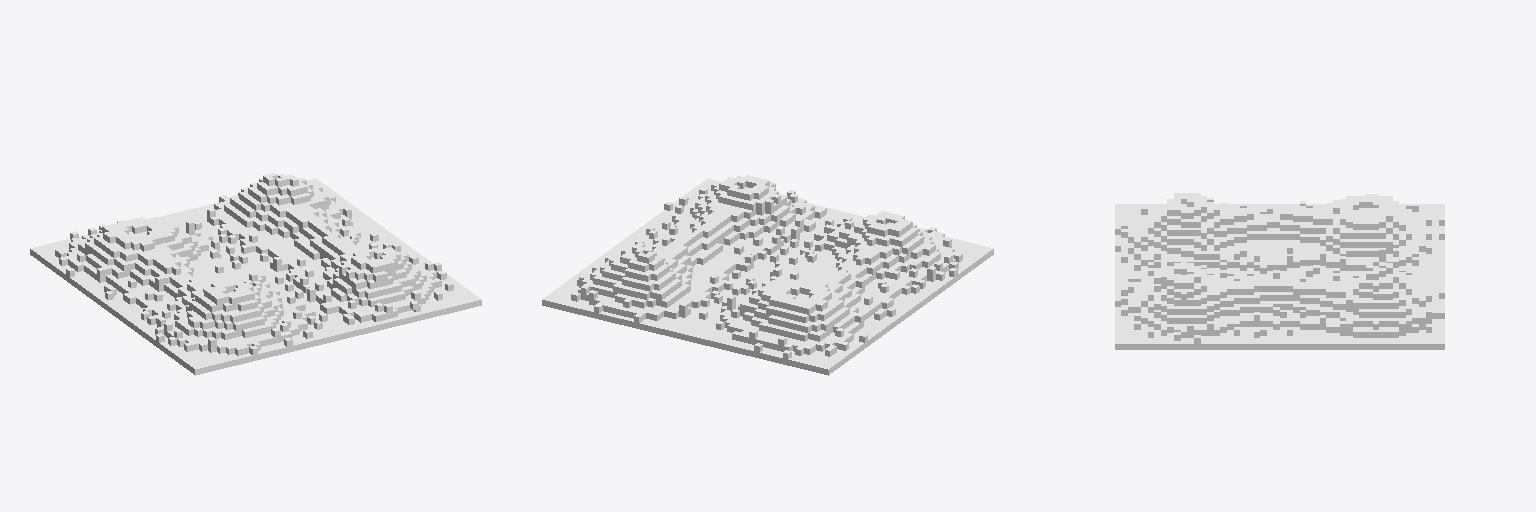
Rendered from Garden.obj.
3 views of the same model, side by side, from view 1: azimuth 30°, elevation 25°; view 2: azimuth 150°, elevation 25°; view 3: azimuth 270°, elevation 25° (orthographic).
Parts seen in each view (by area): view 1: object 1; view 2: object 1; view 3: object 1.
Part boxes in pixels (bbox=[...]): object 1: bbox=[30, 173, 481, 375]; object 1: bbox=[542, 175, 993, 375]; object 1: bbox=[1115, 193, 1444, 349].
Size of the model in its own units: 5 by 0.8 by 5.